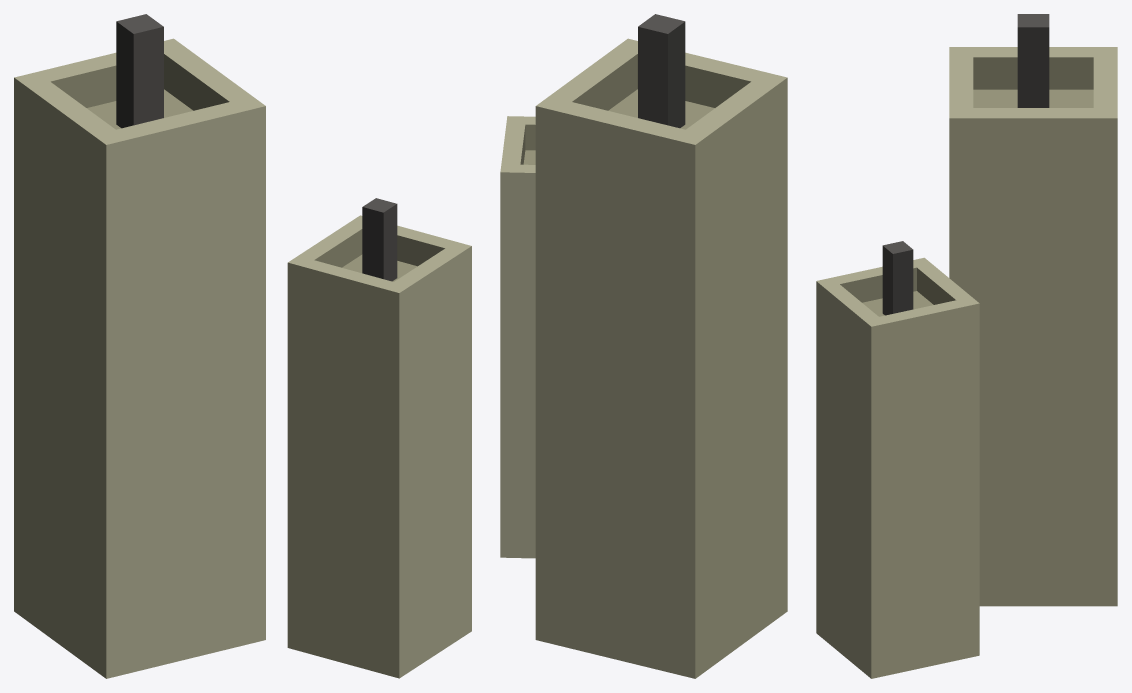
File: SD_Prop_Candle_02.fbx
The picture shows the model from 3 angles, left to right: view 1: azimuth 30°, elevation 25°; view 2: azimuth 150°, elevation 25°; view 3: azimuth 270°, elevation 25°; orthographic projection. The views are drawn at different scales.
Parts seen in each view (by area): view 1: SD_Prop_Candle_02; view 2: SD_Prop_Candle_02; view 3: SD_Prop_Candle_02.
Part boxes in pixels (box(x1,y1,x2,y2)): SD_Prop_Candle_02: box(14, 14, 471, 678); SD_Prop_Candle_02: box(500, 14, 787, 678); SD_Prop_Candle_02: box(816, 14, 1117, 678).
Bounding box in the file's own units: 0.4203 × 0.7484 × 0.372.
